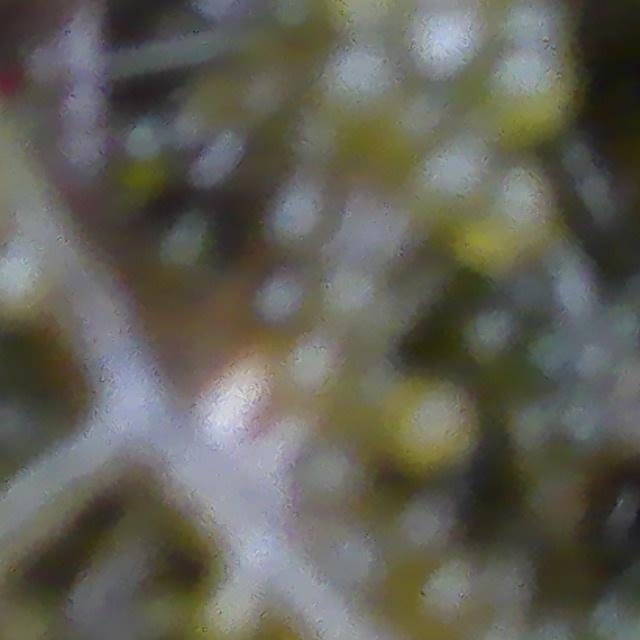SeaGrape: (380, 369, 484, 476), (492, 167, 557, 232)
